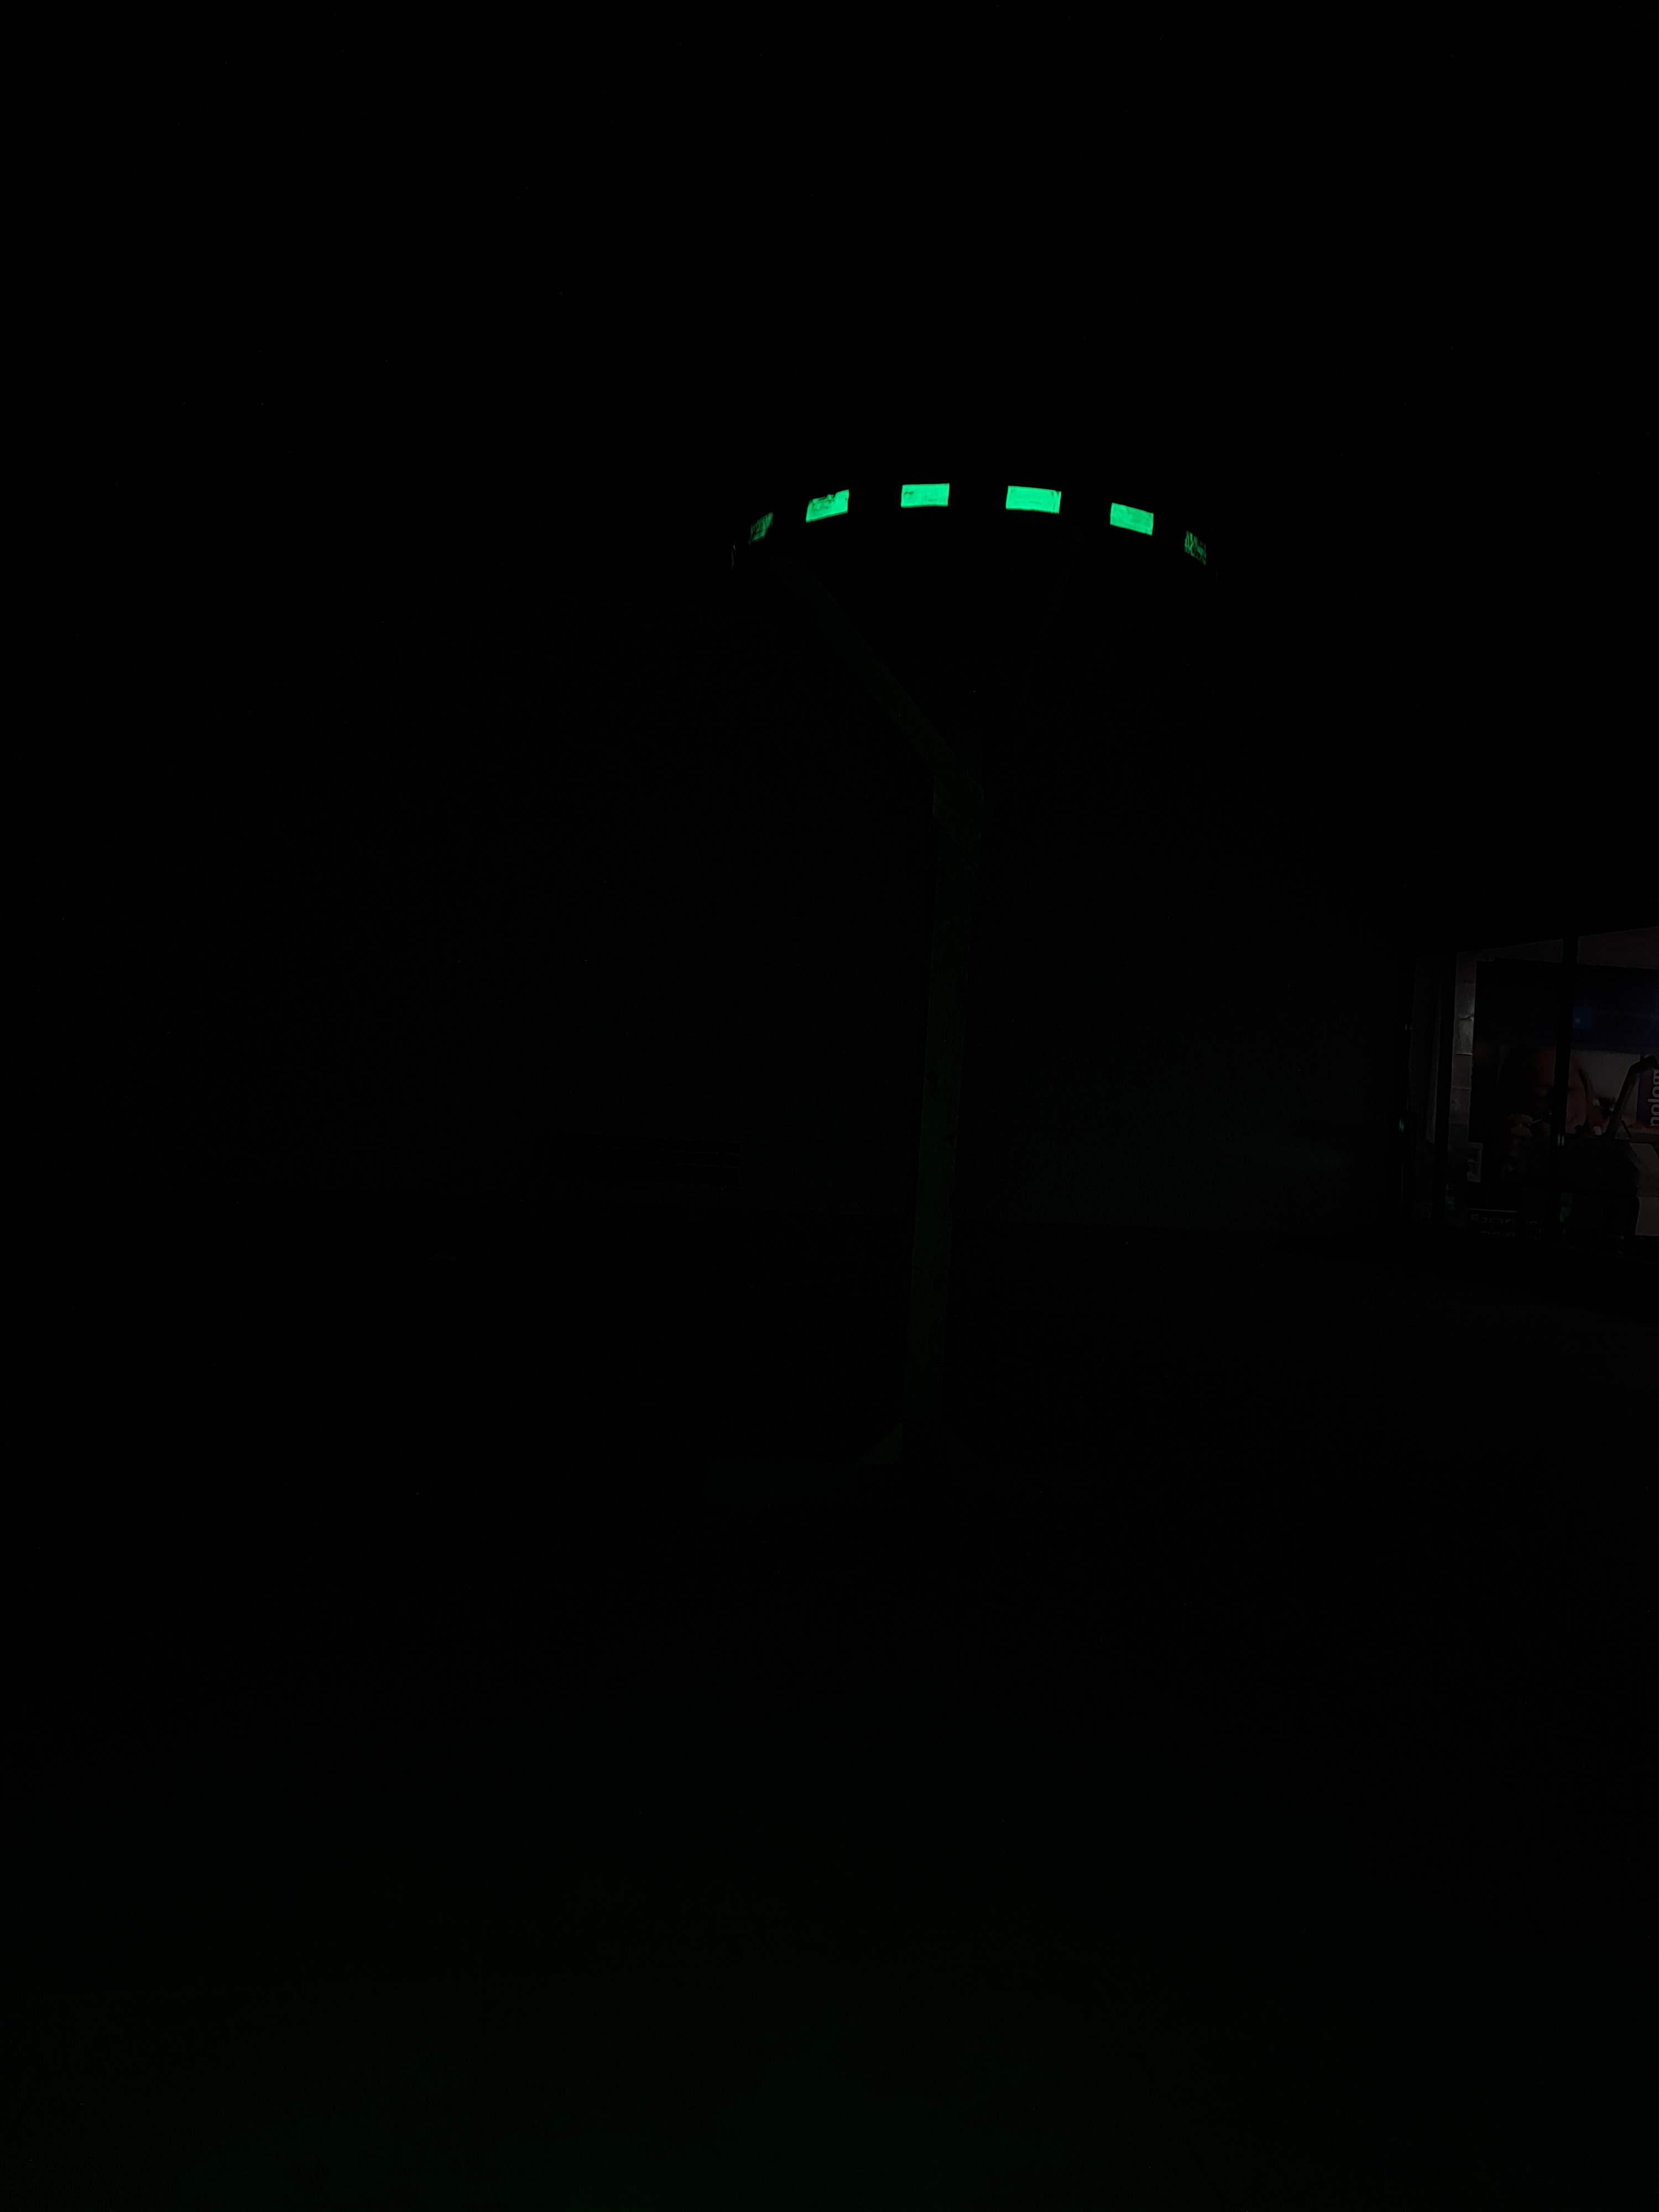hoop: (709, 479, 1239, 599)
